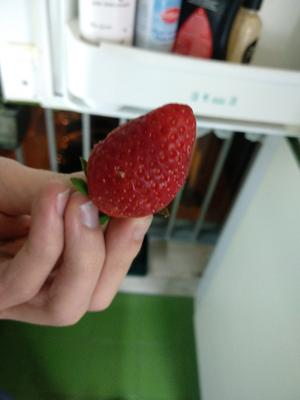strawberry: (0, 0, 300, 400)
